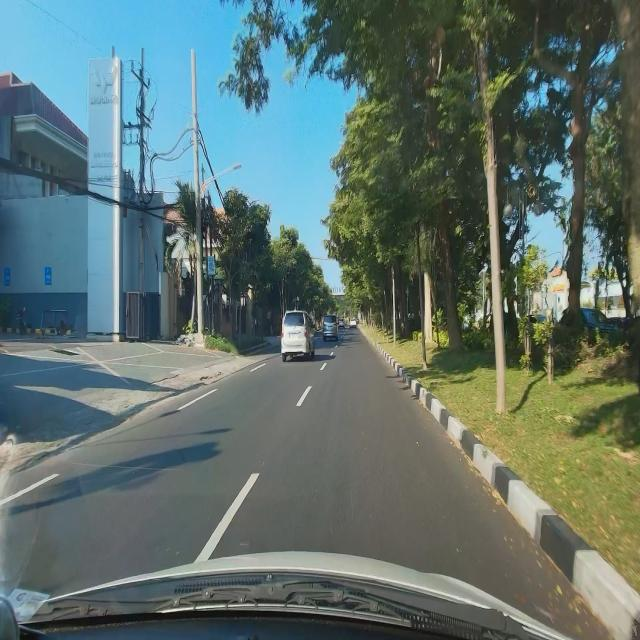car: (280, 306, 316, 364), (322, 314, 338, 344)
